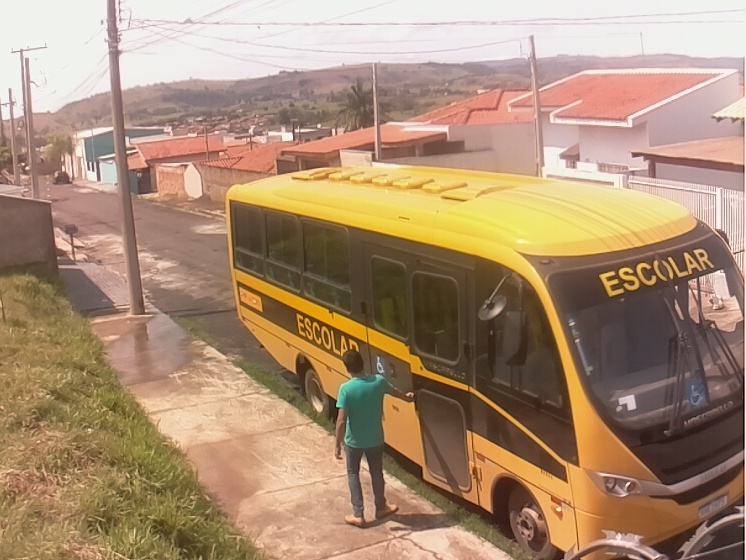person: (332, 349, 416, 529)
